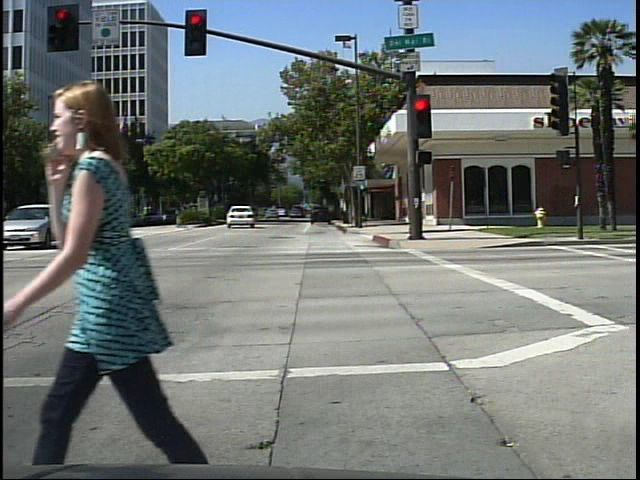person: (42, 64, 227, 467)
